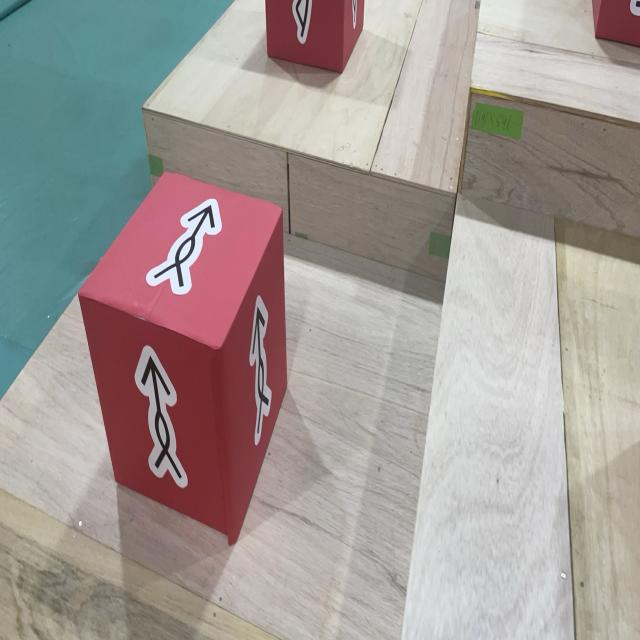11: (292, 0, 312, 43)
12: (134, 344, 188, 488), (146, 197, 222, 296), (248, 294, 272, 446)
fighter: (78, 170, 287, 545), (264, 0, 364, 73), (591, 0, 640, 47)
